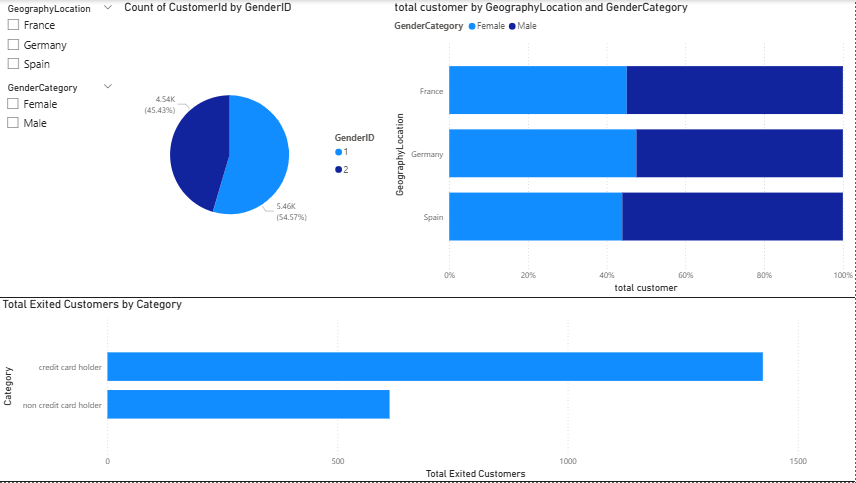

What the dashboard file says about the page in this screenshot:
{"tool":"powerbi","page":{"name":"customer_demographics","canvas":[1280,720],"ordinal":1},"visuals":[{"type":"clusteredBarChart","fields":{"Y":["Bank_Churn.Total Exited Customers"],"Category":["creditcard.Category"]},"box":[0,443.3,1280,276.7],"z":0},{"type":"hundredPercentStackedBarChart","fields":{"Y":["Bank_Churn.total customer"],"Category":["geography.GeographyLocation"],"Series":["gender.GenderCategory"]},"box":[585,0,695,443.3],"z":1000},{"type":"pieChart","fields":{"Category":["gender.GenderID"],"Y":["CountNonNull(Bank_Churn.CustomerId)"]},"box":[181.7,0,403.3,443.3],"z":2000},{"type":"slicer","fields":{"Values":["geography.GeographyLocation"]},"box":[0,0,181.7,118.3],"z":3000},{"type":"slicer","fields":{"Values":["gender.GenderCategory"]},"box":[0,118.3,181.7,85],"z":4000}]}

Visuals, with their boxes in screenshot pixels (x1, y1, x2, y2), scaled from the page's 1280x720 canvas onto the 856x483 screenshot:
clusteredBarChart - Bank_Churn.Total Exited Customers x creditcard.Category: {"left": 0, "top": 297, "right": 855, "bottom": 482}
hundredPercentStackedBarChart - Bank_Churn.total customer x geography.GeographyLocation: {"left": 391, "top": 0, "right": 855, "bottom": 297}
pieChart - gender.GenderID x CountNonNull(Bank_Churn.CustomerId): {"left": 122, "top": 0, "right": 391, "bottom": 297}
slicer - geography.GeographyLocation: {"left": 0, "top": 0, "right": 122, "bottom": 79}
slicer - gender.GenderCategory: {"left": 0, "top": 79, "right": 122, "bottom": 136}
